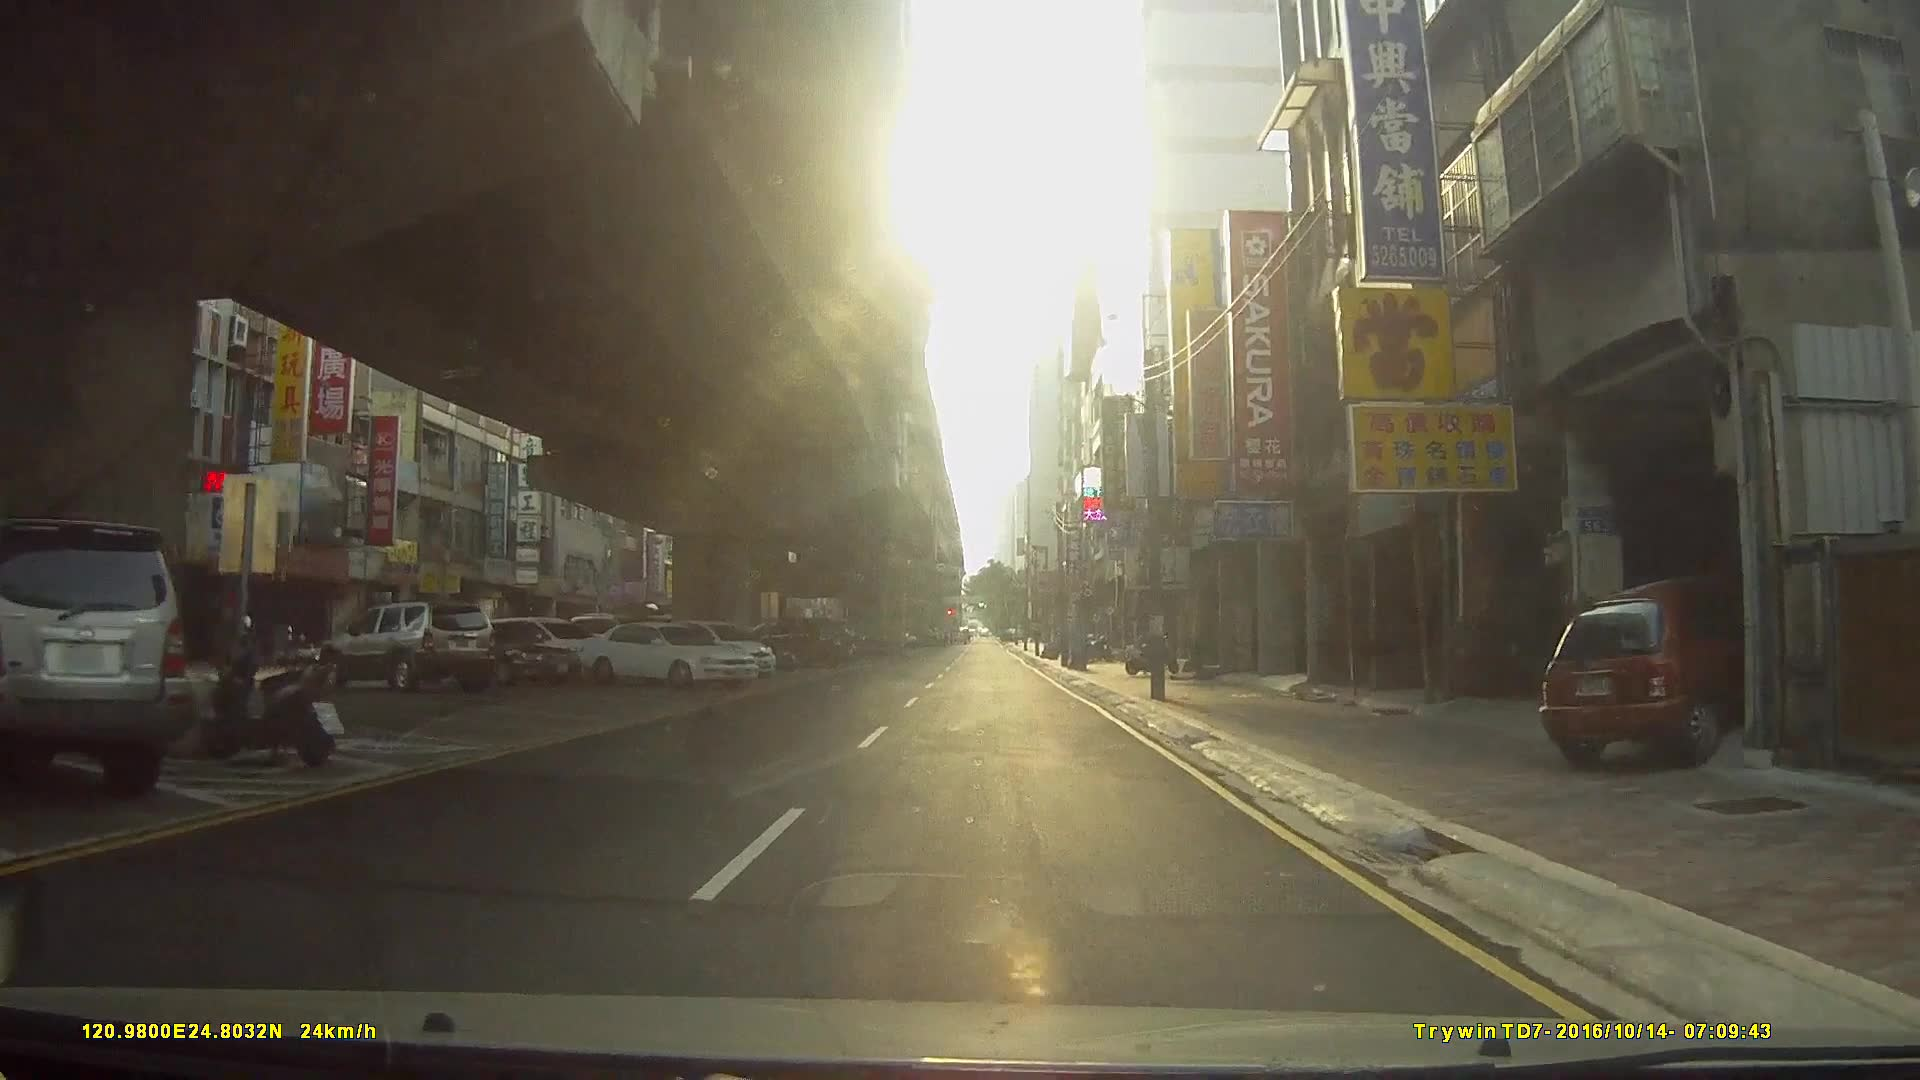vehicle: (0, 518, 186, 803), (1538, 570, 1775, 767), (318, 600, 497, 694), (400, 617, 582, 686), (575, 622, 762, 687)
